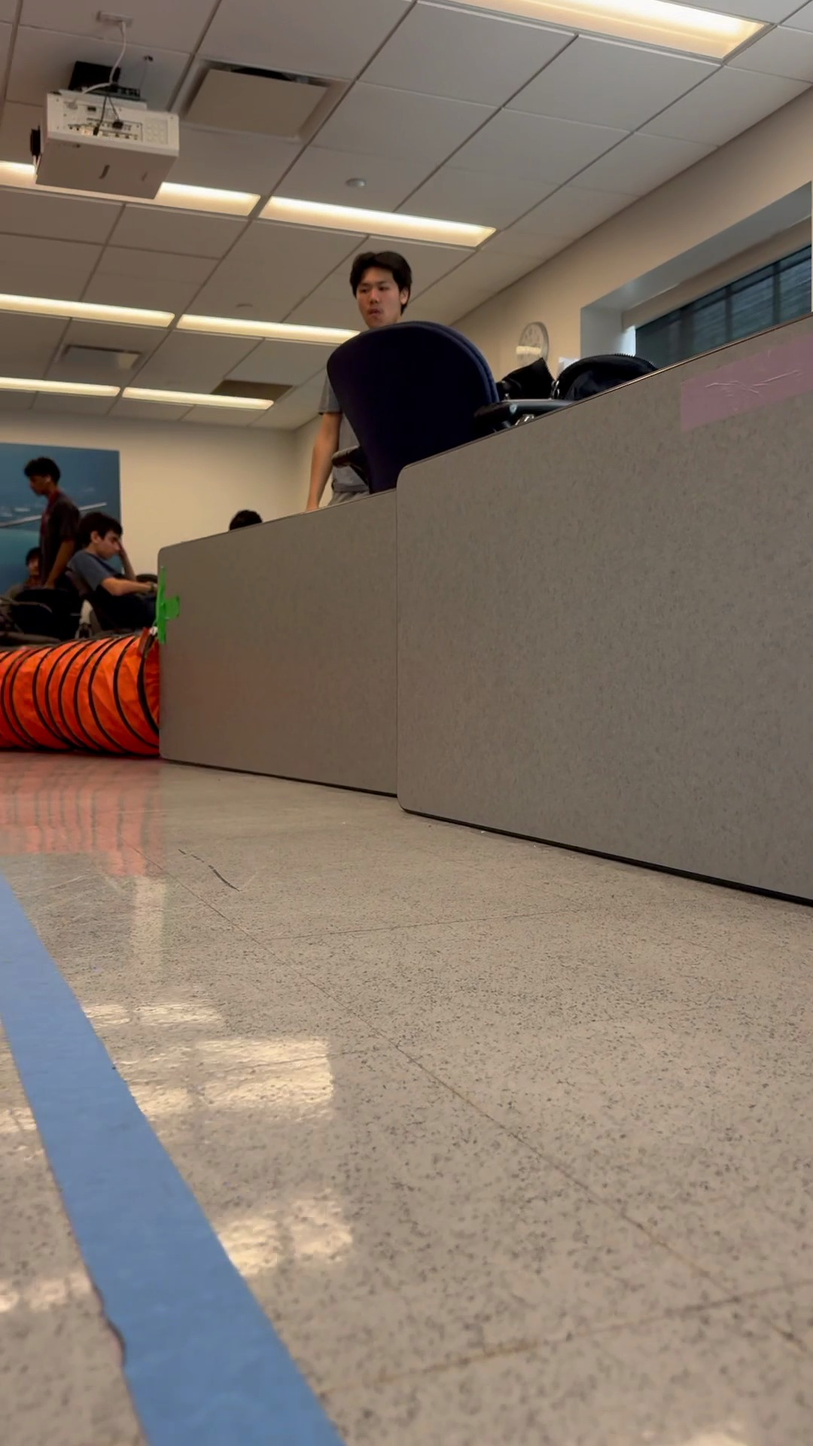racecar: (328, 322, 662, 496)
